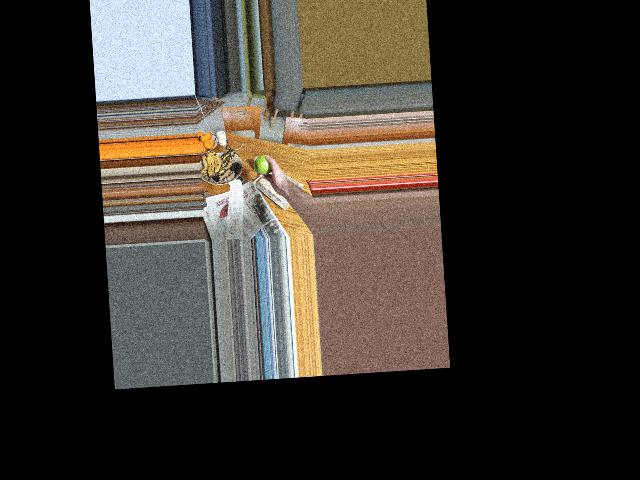apple: (253, 153, 275, 178)
